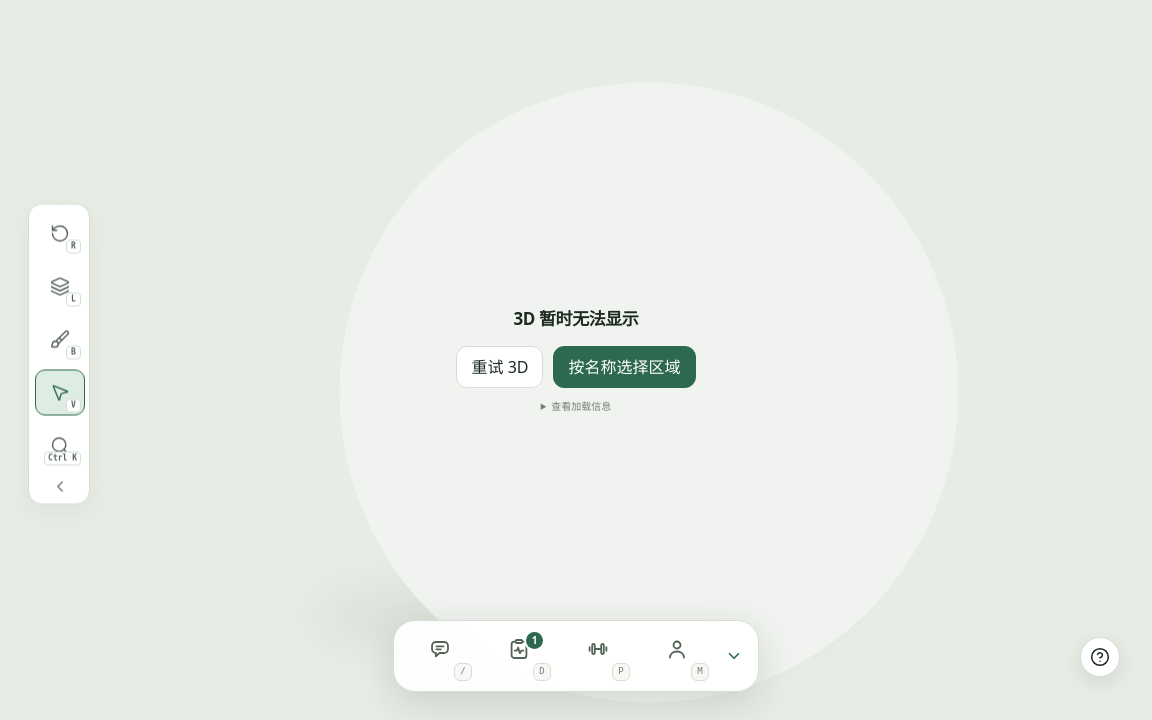
Scenario: body-first business windows › lists an adopted condition with cause, handling boundary and certainty
Click the button "1 D".
click(519, 656)  # box [483,627,555,685]
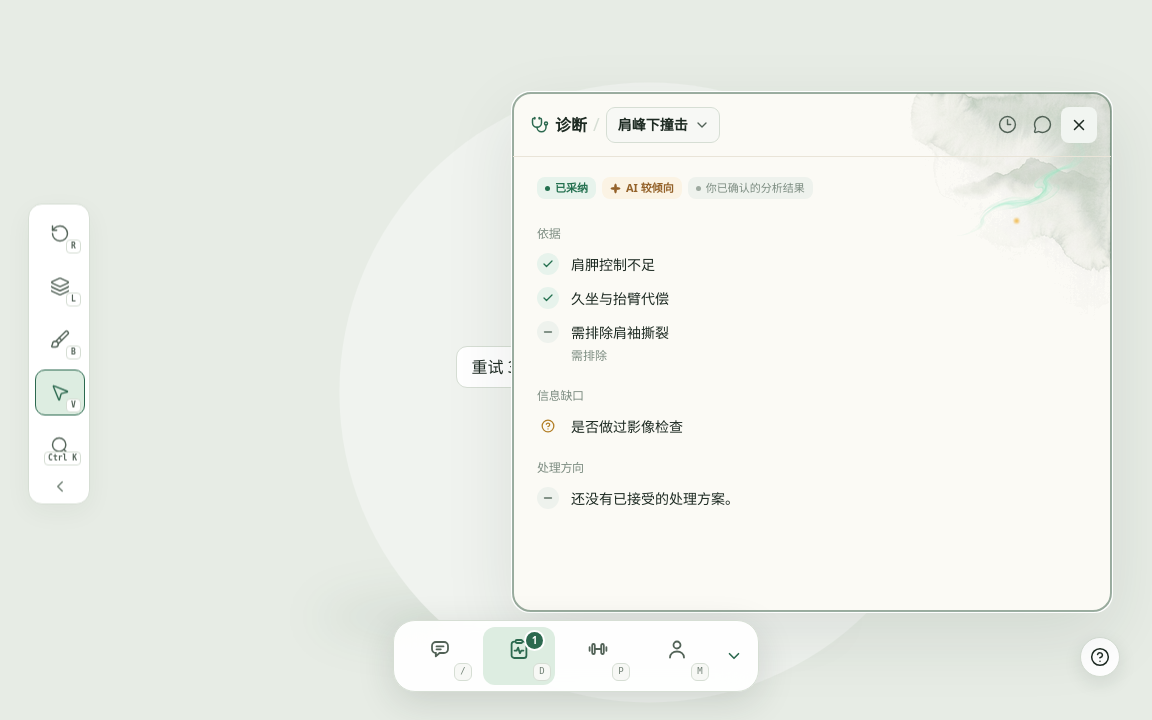
Expected: the element with test id "diagnosis-window" is shown, [536,177,813,509]
Expected: the text "肩胛控制不足" is shown, [571,254,655,275]
Expected: the text "你已确认的分析结果" is shown, [688,177,813,199]
